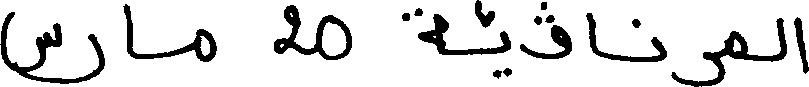X: (0, 7, 61, 86), (521, 0, 570, 63), (673, 36, 724, 86), (63, 29, 104, 86), (276, 0, 314, 59), (316, 10, 351, 64), (419, 3, 444, 59), (794, 12, 808, 78), (196, 24, 216, 66), (726, 26, 745, 64), (588, 8, 599, 60), (125, 0, 133, 62), (653, 32, 667, 66), (501, 26, 509, 81), (777, 13, 785, 65)
